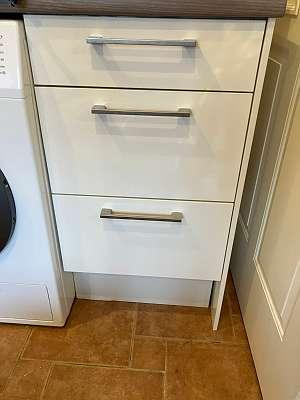cabinet_door: (39, 89, 248, 196), (26, 18, 260, 85), (55, 202, 229, 281)
handle: (86, 32, 203, 51), (87, 103, 195, 122), (96, 205, 185, 226)
